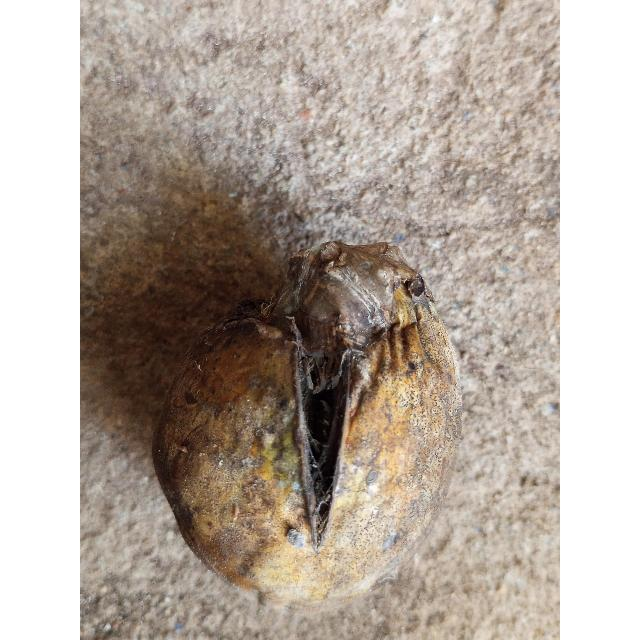damaged: (153, 241, 461, 602)
